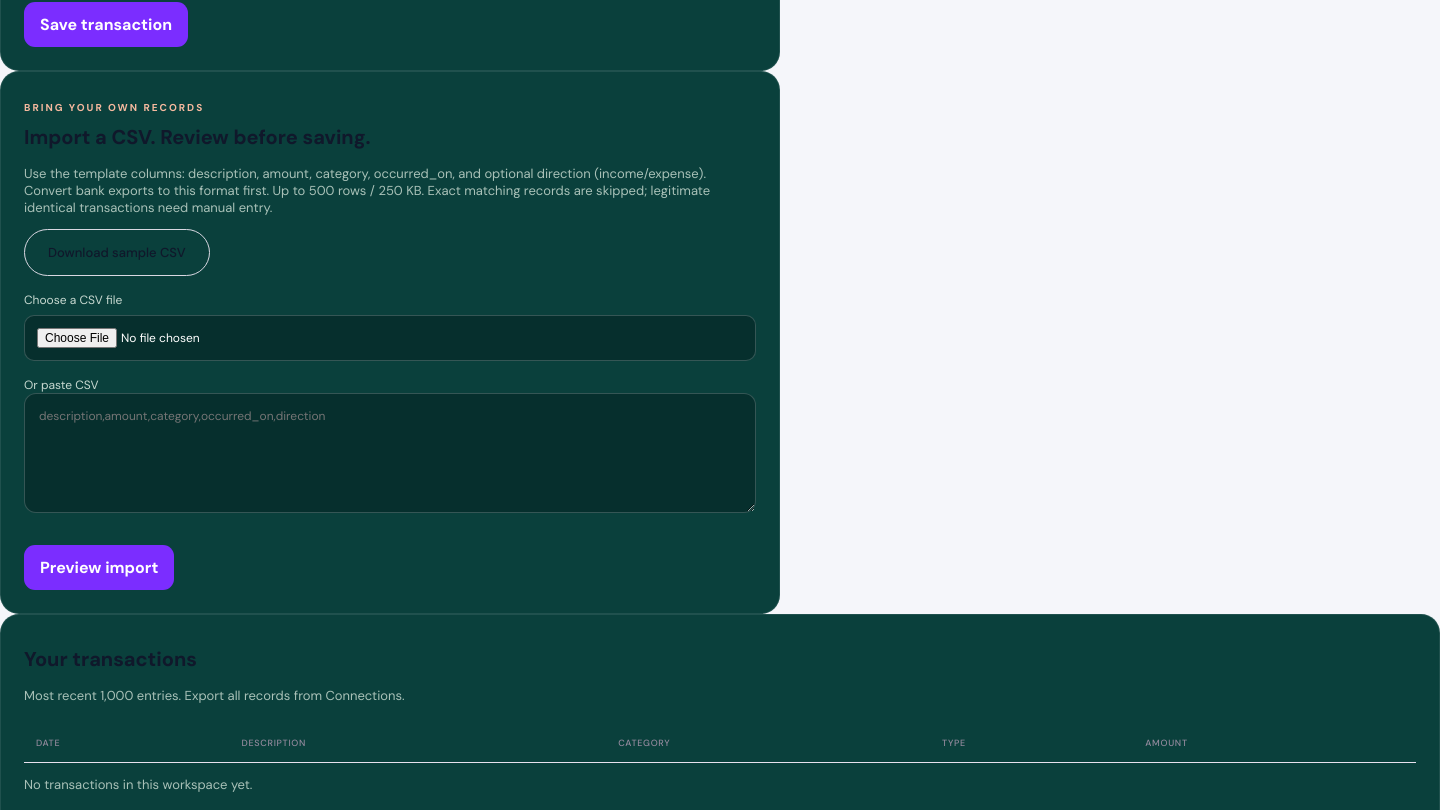
Scenario: money tools › clears the confirmation when CSV changes
(page scrolled)
In the text box labelled "Or paste CSV": (390,453) [24,393,756,513], type "first"
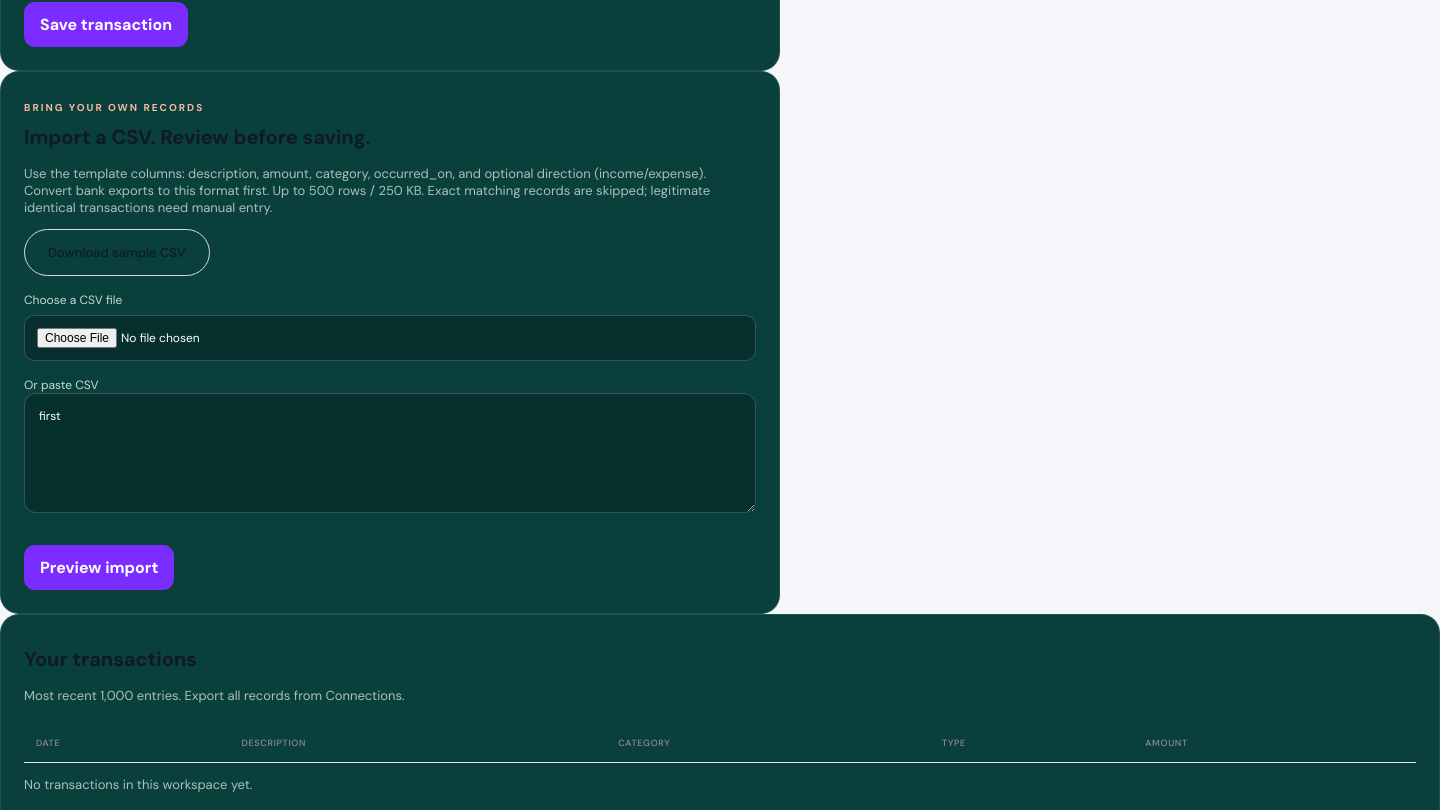
Click the button "Preview import": (99,568) [24,545,174,590]
(page scrolled)
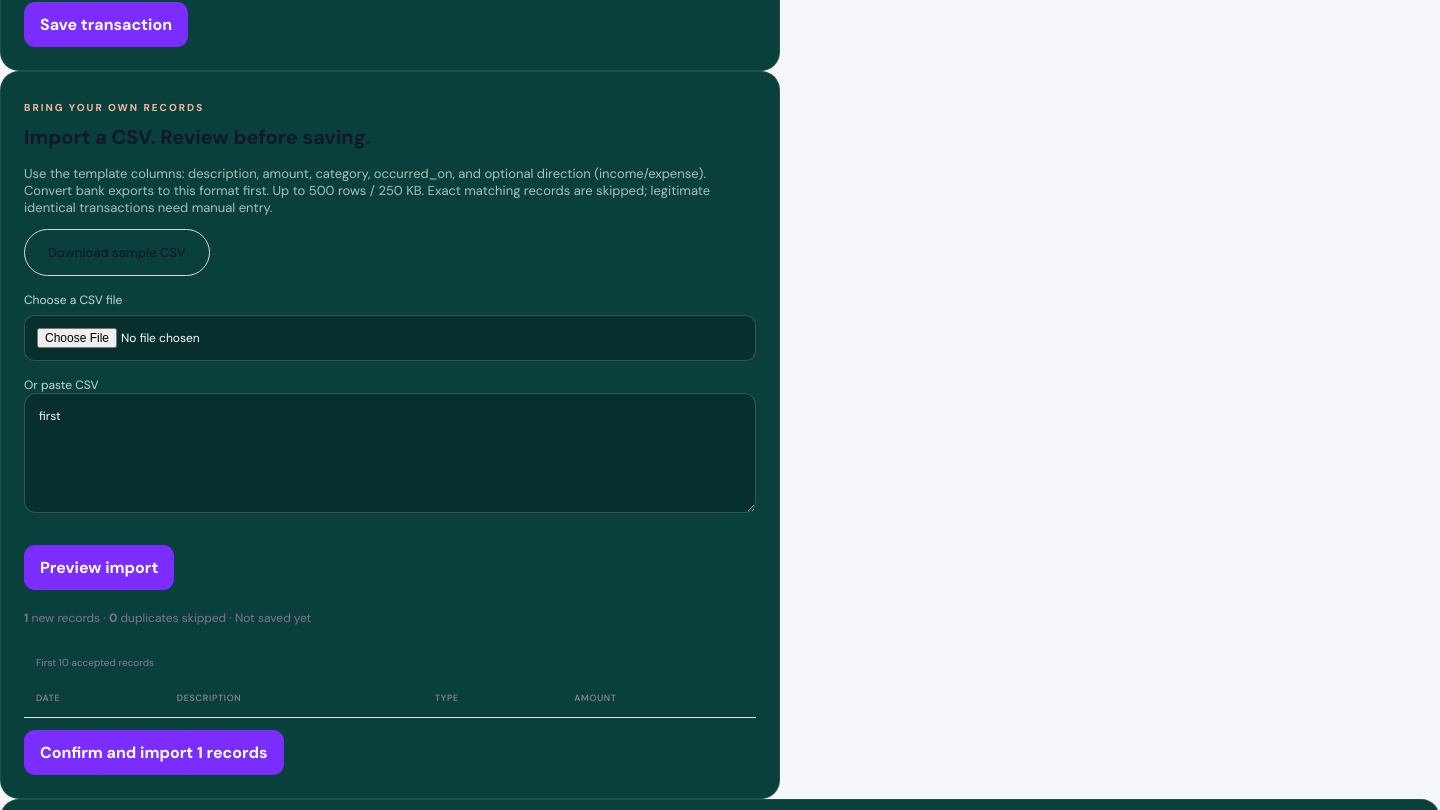
Result: the button "Confirm and import 1 records" is shown at [24,730,284,775]
Replace the text in the text box labelled "Or paste CSV" with "changed": (390,453) [24,393,756,513]
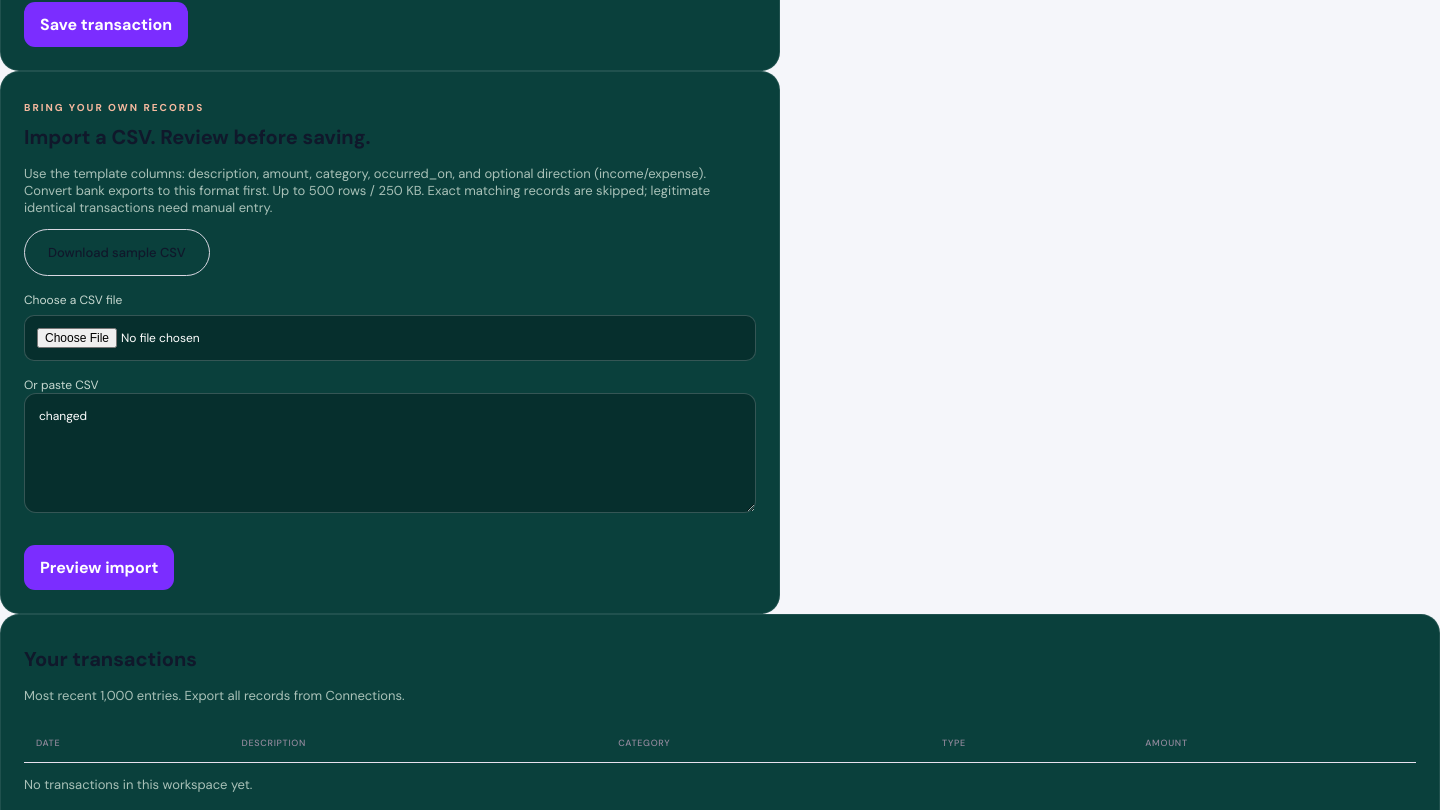
Result: the button "Confirm and import 1 records" is gone
